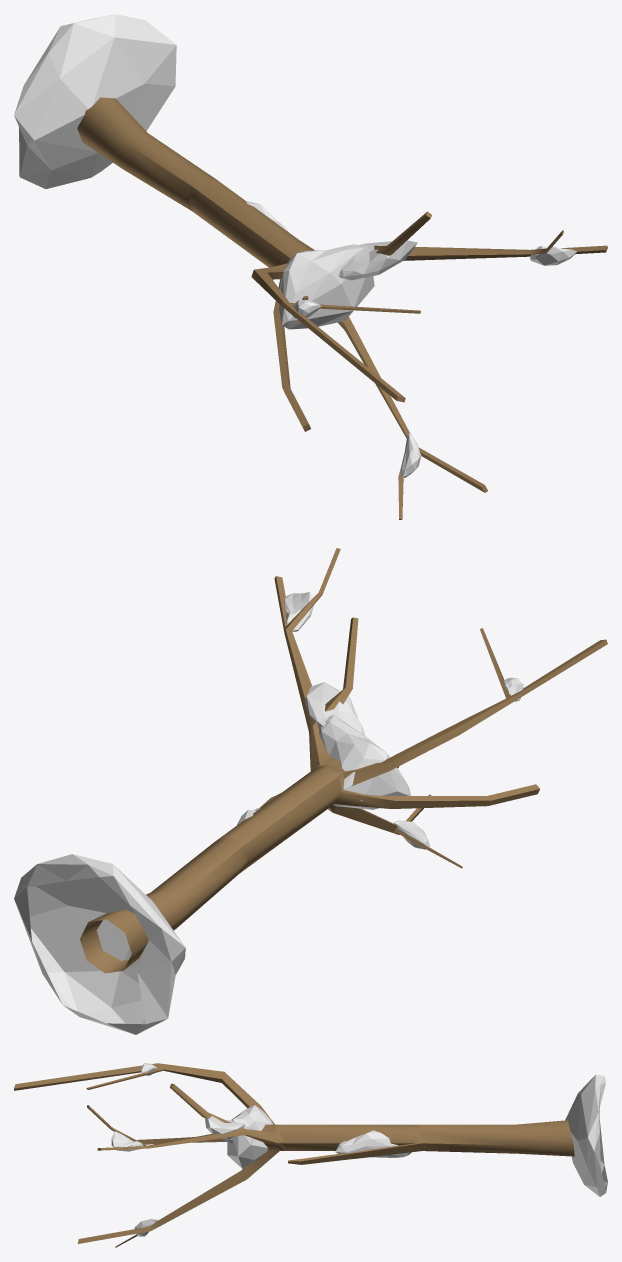
The model's file is tree-no-leaves-snow-3.glb.
3 renders of one model, top to bottom at view 1: azimuth 30°, elevation 25°; view 2: azimuth 150°, elevation 25°; view 3: azimuth 270°, elevation 25°, orthographic. The views are drawn at different scales.
Visible parts, largest first — view 1: Tree 3Snow; view 2: Tree 3Snow; view 3: Tree 3Snow.
Part boxes in pixels (<box>): Tree 3Snow: <box>14,14,607,519</box>; Tree 3Snow: <box>14,548,607,1034</box>; Tree 3Snow: <box>14,1063,607,1247</box>.
Size of the model in its own units: 2.62 by 2.36 by 6.63.
